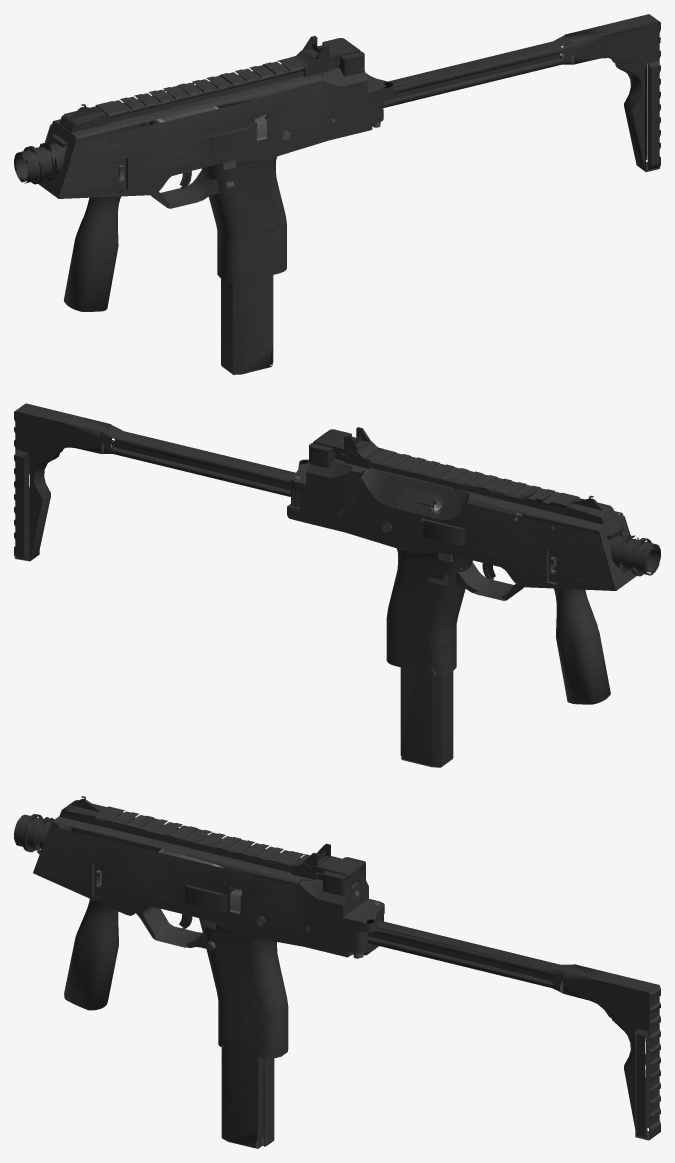
3 views of the same model, one above another, from view 1: azimuth 30°, elevation 25°; view 2: azimuth 150°, elevation 25°; view 3: azimuth 330°, elevation 25° (orthographic).
Parts seen in each view (by area): view 1: merged; view 2: merged; view 3: merged.
Part boxes in pixels (bbox=[...]): merged: bbox=[14, 14, 660, 374]; merged: bbox=[14, 403, 660, 767]; merged: bbox=[14, 796, 660, 1148].
Size of the model in its own units: 3.81 by 1.77 by 0.302.
Materials: 3 (3 with a texture image).
